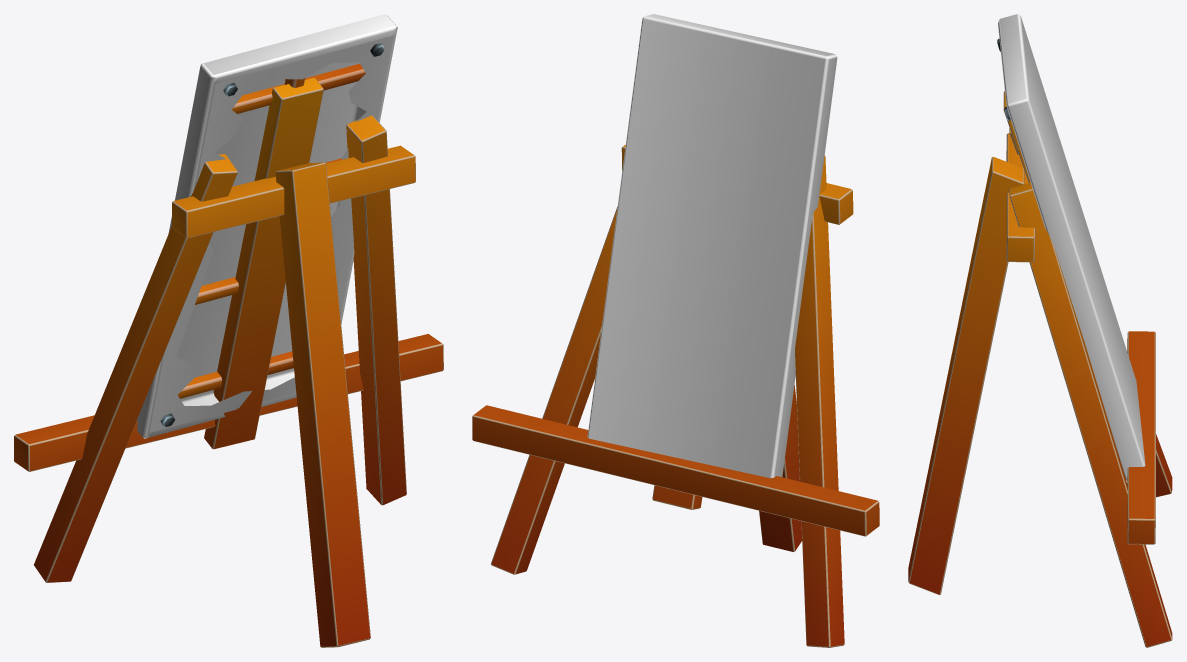
Rendered from Easel 2.fbx.
The picture shows the model from 3 angles, left to right: view 1: azimuth 30°, elevation 25°; view 2: azimuth 150°, elevation 25°; view 3: azimuth 270°, elevation 25°; orthographic projection. The views are drawn at different scales.
Visible parts, largest first — view 1: easel.002; view 2: easel.002; view 3: easel.002.
Part boxes in pixels (bbox=[...]): easel.002: bbox=[14, 14, 443, 647]; easel.002: bbox=[472, 14, 879, 647]; easel.002: bbox=[908, 14, 1172, 647].
Bounding box in the file's own units: 163 × 215 × 96.61.
Materials: 1 (1 with a texture image).
